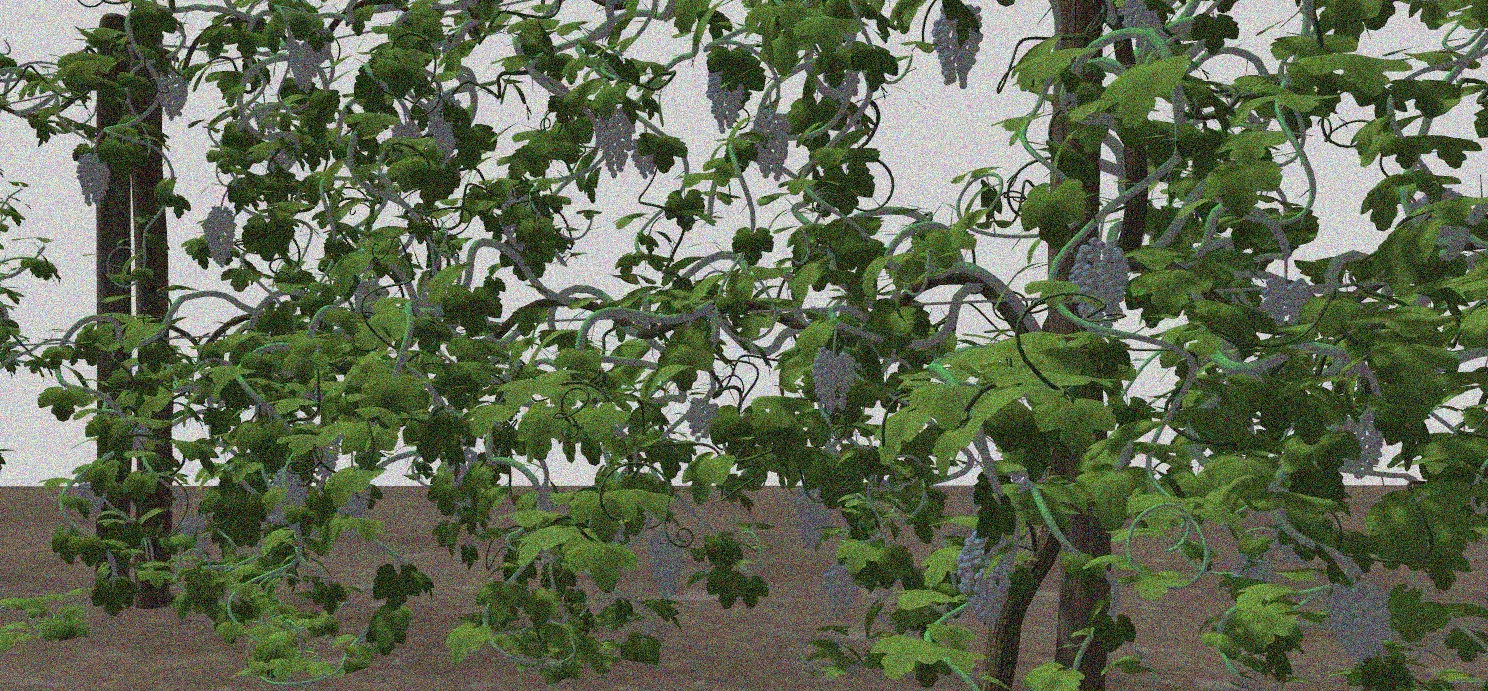grape: (1325, 580, 1393, 668), (957, 533, 1019, 626), (1069, 238, 1128, 323), (929, 4, 985, 89), (593, 108, 637, 179), (792, 483, 836, 552), (1339, 409, 1383, 478), (811, 347, 856, 413), (1261, 275, 1315, 329), (752, 110, 791, 183), (647, 529, 686, 600), (704, 68, 745, 132), (287, 38, 330, 94), (425, 95, 464, 154), (202, 205, 237, 267), (267, 469, 304, 525), (822, 562, 859, 617), (335, 482, 372, 535), (77, 151, 110, 207), (682, 397, 721, 441), (158, 71, 189, 125), (180, 515, 209, 563), (74, 482, 106, 521)
